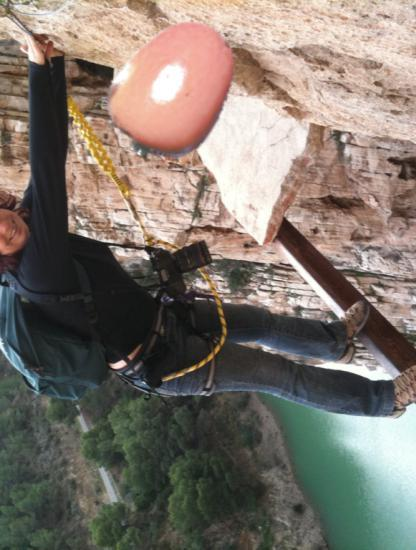Kaki: (99, 13, 249, 163)
